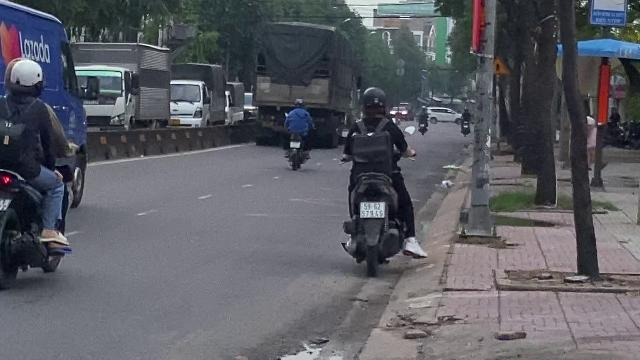helmet: (3, 58, 43, 98), (359, 86, 388, 118)
licenseplate: (360, 202, 384, 218)
motorcyclist: (0, 58, 76, 290), (335, 84, 419, 272)
